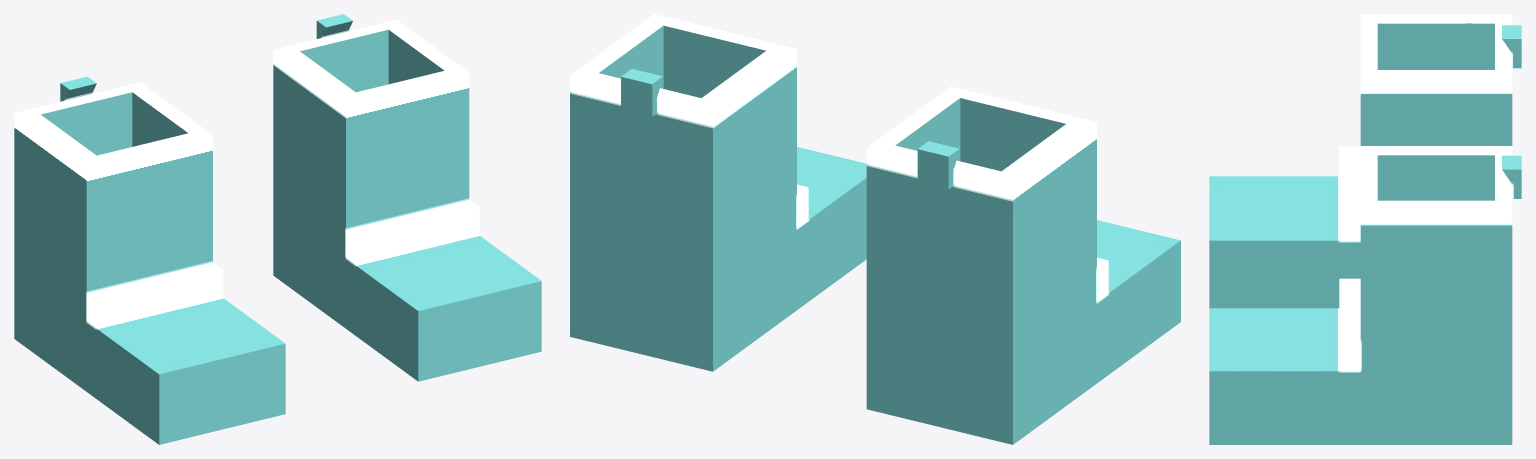
The model's file is ice_boots.glb.
The picture shows the model from 3 angles, left to right: view 1: azimuth 30°, elevation 25°; view 2: azimuth 150°, elevation 25°; view 3: azimuth 270°, elevation 25°; orthographic projection. The views are drawn at different scales.
Parts seen in each view (by area): view 1: iceBoots.001; view 2: iceBoots.001; view 3: iceBoots.001.
Part boxes in pixels (left/top/right/bottom): iceBoots.001: left=14, top=14, right=541, bottom=444; iceBoots.001: left=570, top=14, right=1180, bottom=444; iceBoots.001: left=1209, top=14, right=1521, bottom=444.
Bounding box in the file's own units: 2.84 × 1.7 × 1.92.
1 material, 1 textured.
